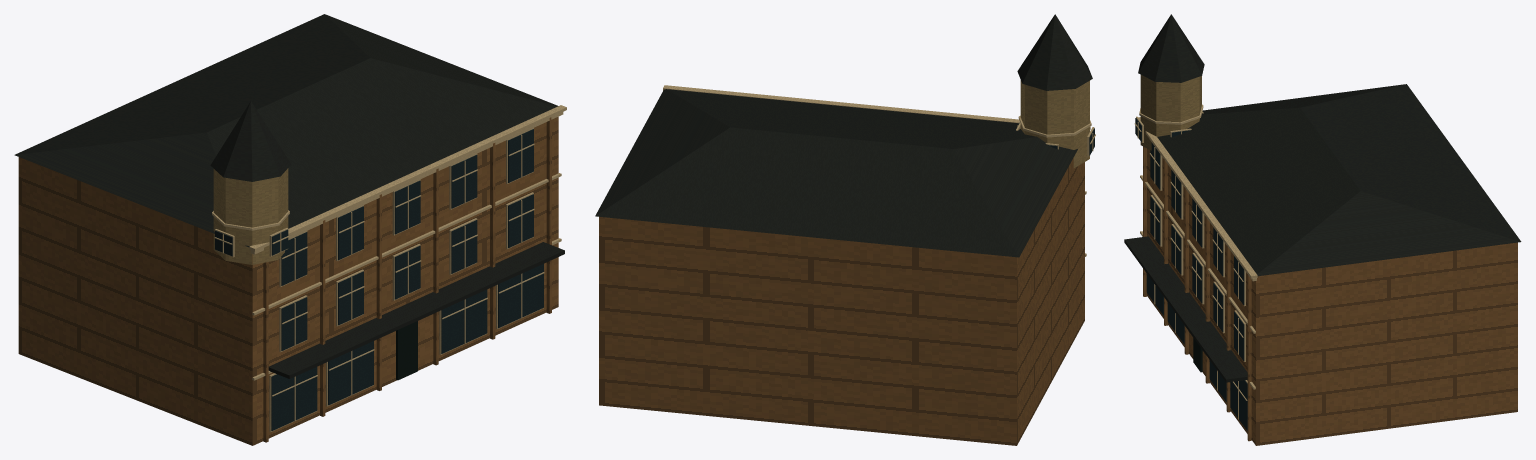
3 renders of one model, left to right at view 1: azimuth 30°, elevation 25°; view 2: azimuth 150°, elevation 25°; view 3: azimuth 270°, elevation 25°, orthographic. The views are drawn at different scales.
Visible parts, largest first — view 1: vroom-dreesmann-binnenweg-4, vroom-dreesmann-binnenweg-3, vroom-dreesmann-binnenweg-2, vroom-dreesmann-binnenweg-1, vroom-dreesmann-binnenweg-0, vroom-dreesmann-binnenweg-5; view 2: vroom-dreesmann-binnenweg-4, vroom-dreesmann-binnenweg-3, vroom-dreesmann-binnenweg-0, vroom-dreesmann-binnenweg-1; view 3: vroom-dreesmann-binnenweg-4, vroom-dreesmann-binnenweg-3, vroom-dreesmann-binnenweg-2, vroom-dreesmann-binnenweg-1, vroom-dreesmann-binnenweg-0.
Boxes of the visible parts, x1=… form: vroom-dreesmann-binnenweg-4: x1=18, y1=116, x2=558, y2=445; vroom-dreesmann-binnenweg-3: x1=14, y1=14, x2=564, y2=378; vroom-dreesmann-binnenweg-2: x1=215, y1=129, x2=543, y2=430; vroom-dreesmann-binnenweg-1: x1=212, y1=105, x2=566, y2=432; vroom-dreesmann-binnenweg-0: x1=213, y1=168, x2=288, y2=264; vroom-dreesmann-binnenweg-5: x1=396, y1=321, x2=417, y2=380; vroom-dreesmann-binnenweg-4: x1=599, y1=158, x2=1084, y2=445; vroom-dreesmann-binnenweg-3: x1=595, y1=14, x2=1092, y2=257; vroom-dreesmann-binnenweg-0: x1=1020, y1=80, x2=1089, y2=168; vroom-dreesmann-binnenweg-1: x1=663, y1=85, x2=1095, y2=256; vroom-dreesmann-binnenweg-4: x1=1143, y1=146, x2=1517, y2=445; vroom-dreesmann-binnenweg-3: x1=1124, y1=14, x2=1521, y2=382; vroom-dreesmann-binnenweg-2: x1=1135, y1=118, x2=1247, y2=430; vroom-dreesmann-binnenweg-1: x1=1134, y1=104, x2=1257, y2=419; vroom-dreesmann-binnenweg-0: x1=1140, y1=75, x2=1201, y2=150.
Bounding box in the file's own units: 40.09 × 27.3 × 34.79.
6 materials, 6 textured.
